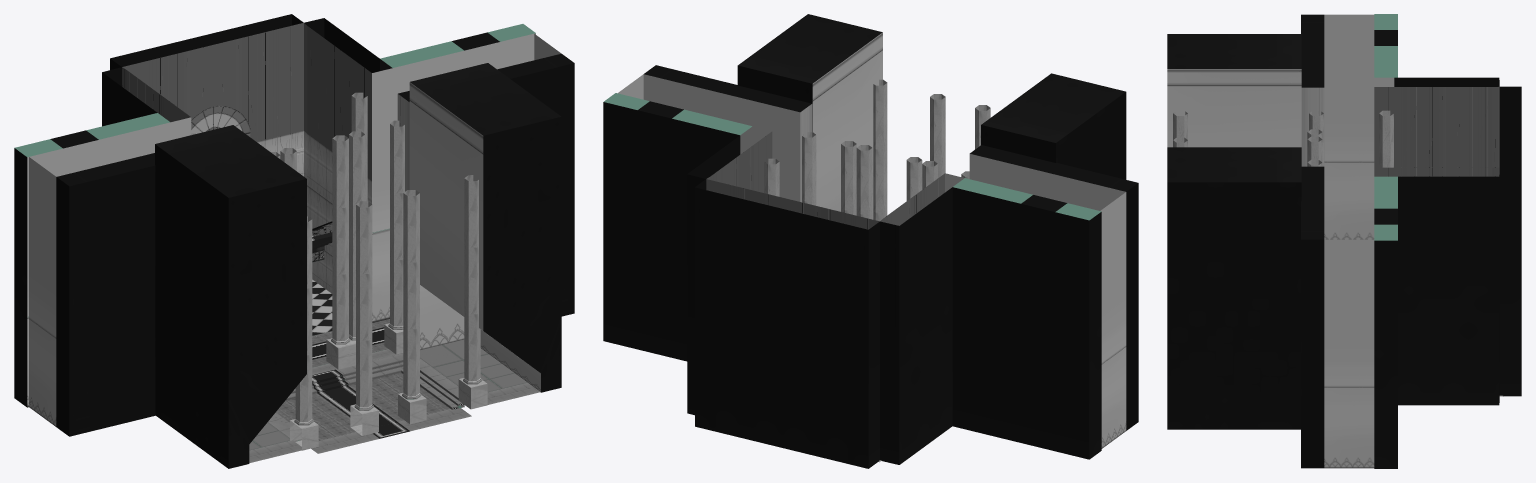
File: Collection_2.fbx
3 views of the same model, side by side, from view 1: azimuth 30°, elevation 25°; view 2: azimuth 150°, elevation 25°; view 3: azimuth 270°, elevation 25° (orthographic). The views are drawn at different scales.
Parts seen in each view (by area): view 1: Walls3, Walls1, Walls2, Pillar1.001, Pillars1, GroundLobby, Pillar1, GroundLobby.001, Cube, Plane, Window2, GroundStairs; view 2: Walls1, Walls3, Walls2, Pillar1.001, Pillars1, Pillar1; view 3: Walls3, Walls1, Walls2, Pillar1, Pillars1, Pillar1.001.
Part boxes in pixels (<box>): Walls3: <box>155,63,561,468</box>; Walls1: <box>14,14,535,407</box>; Walls2: <box>29,34,574,436</box>; Pillar1.001: <box>290,175,487,450</box>; Pillars1: <box>270,131,365,369</box>; GroundLobby: <box>276,372,471,453</box>; Pillar1: <box>191,92,404,354</box>; GroundLobby.001: <box>249,339,540,462</box>; Cube: <box>268,353,464,441</box>; Plane: <box>312,319,402,375</box>; Window2: <box>191,105,250,133</box>; GroundStairs: <box>312,279,332,336</box>; Walls1: <box>603,93,1101,468</box>; Walls3: <box>737,14,1126,219</box>; Walls2: <box>618,65,1138,448</box>; Pillar1.001: <box>873,79,990,221</box>; Pillars1: <box>841,141,937,219</box>; Pillar1: <box>764,132,969,205</box>; Walls3: <box>1167,34,1301,429</box>; Walls1: <box>1374,14,1521,468</box>; Walls2: <box>1301,14,1394,468</box>; Pillar1: <box>1309,110,1393,167</box>; Pillars1: <box>1307,129,1322,166</box>; Pillar1.001: <box>1173,111,1187,147</box>.
Size of the model in its own units: 4910 by 2563 by 3245.
